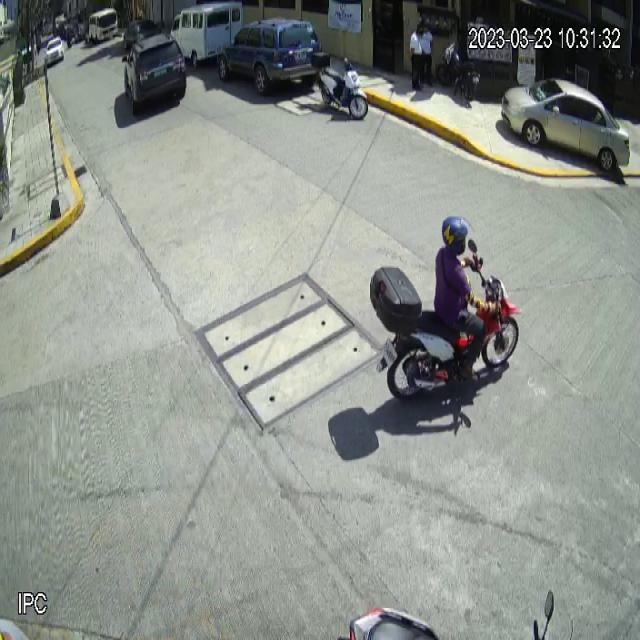Car: (501, 77, 632, 176), (215, 14, 322, 97), (122, 28, 191, 120)
Motorcycle: (366, 239, 524, 411), (311, 51, 369, 120)
Van: (169, 0, 243, 68)
